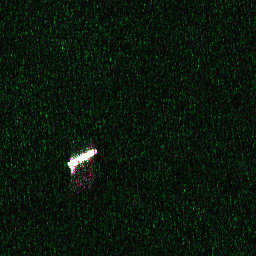ship: (66, 144, 100, 172)
